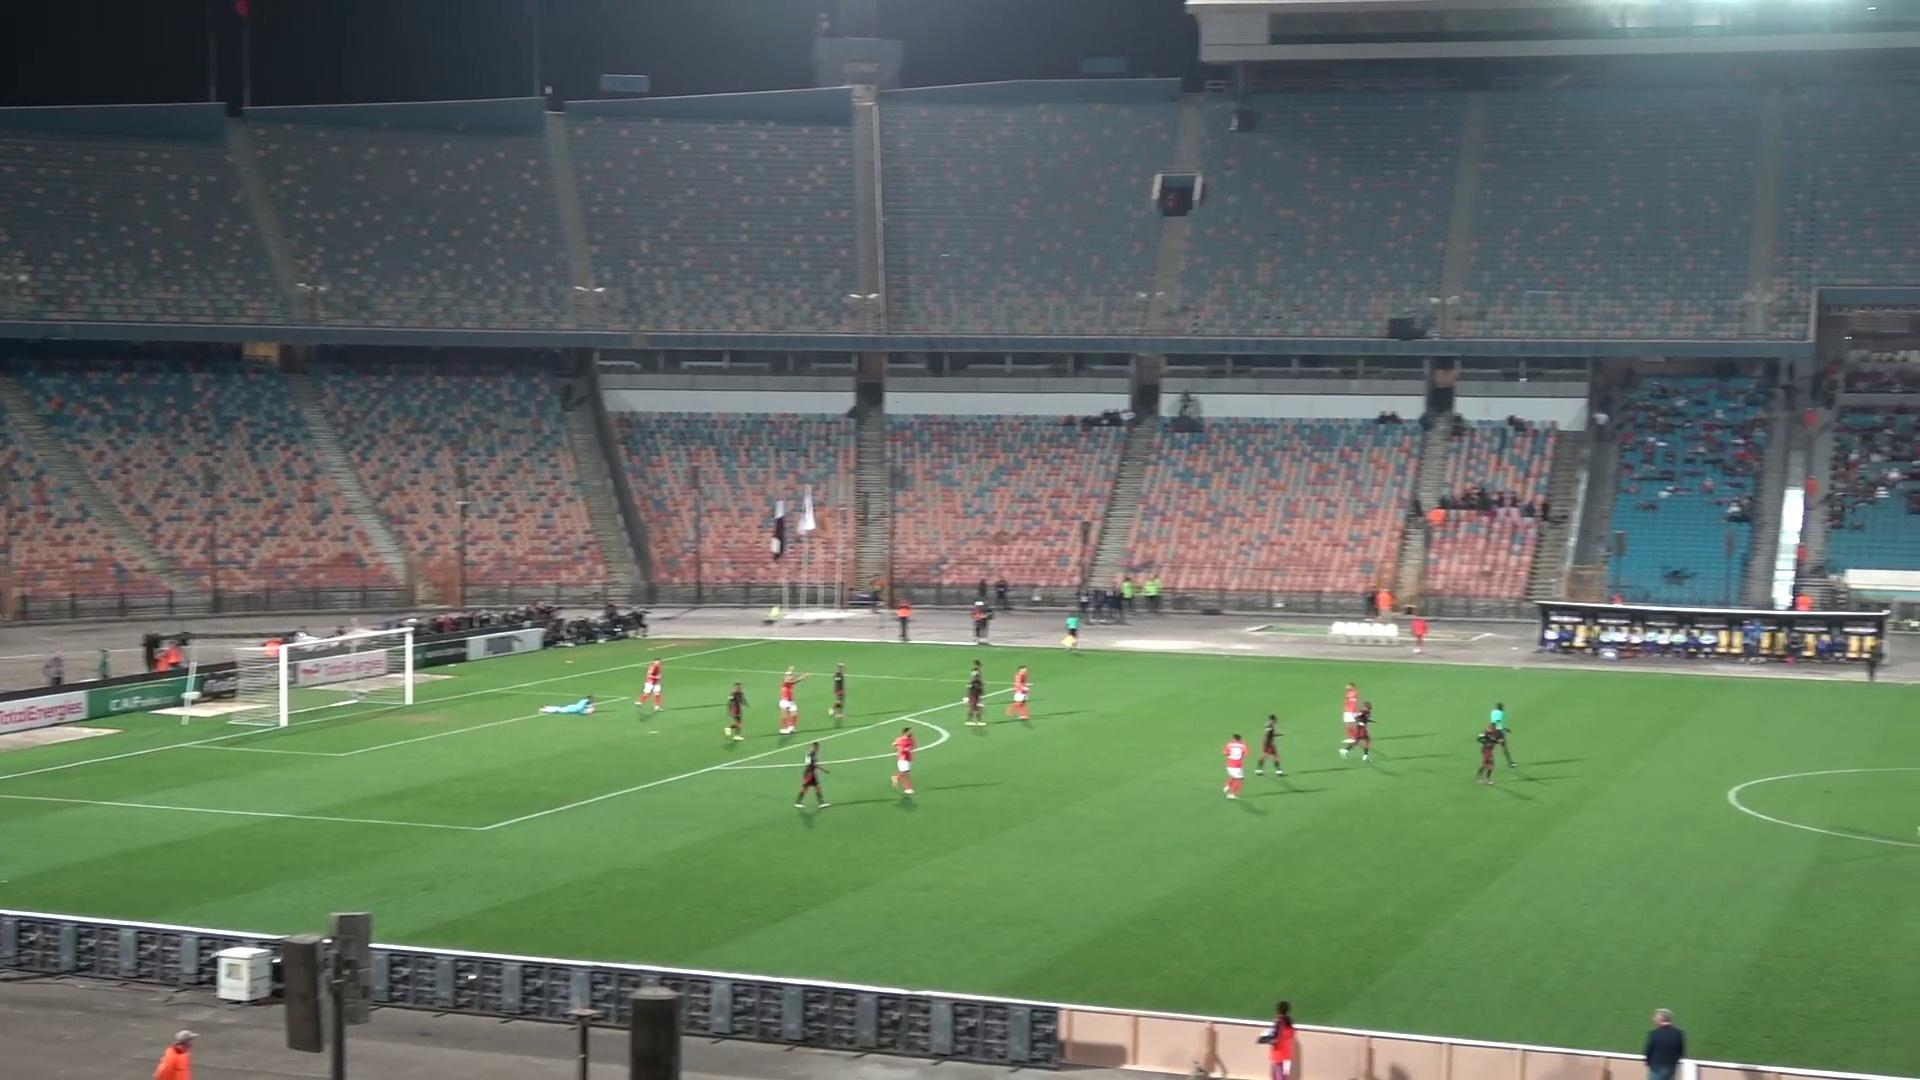GK2: (538, 695, 596, 715)
Refree: (1480, 703, 1510, 740), (1062, 613, 1081, 651)
Team1: (777, 669, 804, 736), (891, 727, 916, 796), (1222, 733, 1249, 799), (633, 659, 663, 713), (1341, 682, 1370, 731), (1006, 665, 1030, 721)
Team2: (793, 742, 829, 808), (1476, 723, 1513, 782), (1255, 713, 1286, 775), (1342, 702, 1374, 761), (723, 682, 749, 742), (963, 659, 986, 725), (827, 663, 847, 727)
